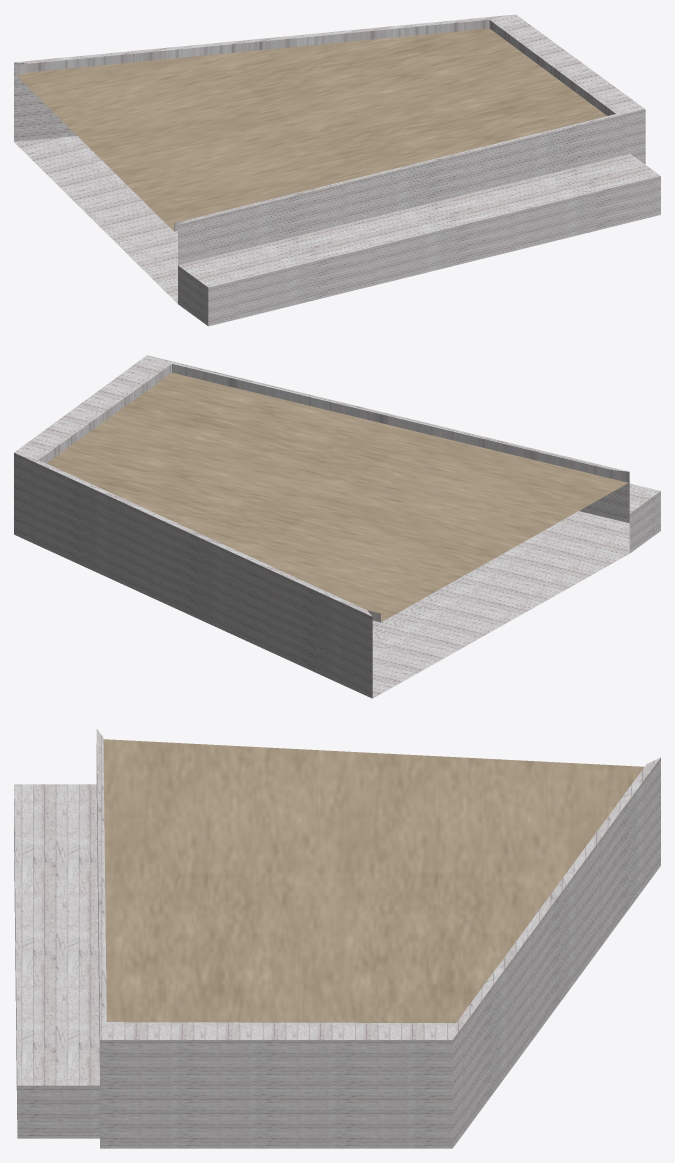
Rendered from CINEMA.glb.
3 views of the same model, one above another, from view 1: azimuth 30°, elevation 25°; view 2: azimuth 150°, elevation 25°; view 3: azimuth 270°, elevation 25° (orthographic). The views are drawn at different scales.
Visible parts, largest first — view 1: Cube.026; view 2: Cube.026; view 3: Cube.026.
Boxes of the visible parts, x1,y1,x2,y2 form: Cube.026: (14, 14, 660, 326); Cube.026: (14, 355, 660, 698); Cube.026: (14, 729, 660, 1148).
Size of the model in its own units: 78.44 by 12.72 by 68.65.
2 materials, 2 textured.
